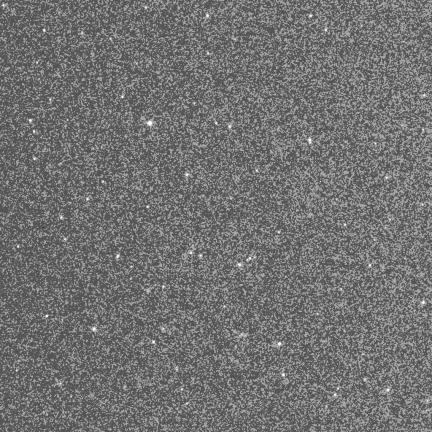blob: (147, 121, 152, 126), (308, 138, 312, 144), (33, 157, 37, 161), (45, 314, 49, 318), (121, 95, 125, 99), (162, 285, 166, 289), (92, 327, 96, 331), (278, 342, 282, 346), (186, 173, 190, 177), (282, 373, 286, 377), (81, 31, 84, 36), (117, 254, 120, 259), (325, 28, 328, 32), (387, 389, 390, 393), (256, 169, 259, 173), (146, 206, 150, 209), (422, 300, 425, 304), (152, 341, 156, 344), (369, 264, 372, 268), (215, 122, 219, 125), (364, 378, 367, 382), (87, 198, 90, 202), (386, 176, 389, 180), (145, 6, 148, 10), (337, 387, 340, 391), (43, 29, 46, 33), (334, 393, 337, 397), (309, 14, 312, 17), (278, 231, 281, 234), (29, 119, 32, 122), (238, 263, 241, 266), (181, 388, 184, 391), (110, 38, 113, 41), (199, 254, 202, 257), (190, 252, 193, 255), (206, 14, 209, 17), (60, 216, 63, 219), (344, 224, 347, 227), (241, 333, 243, 337), (33, 130, 35, 133), (64, 238, 66, 241), (229, 125, 231, 128)
